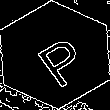P_NW: (22, 24, 88, 86)
